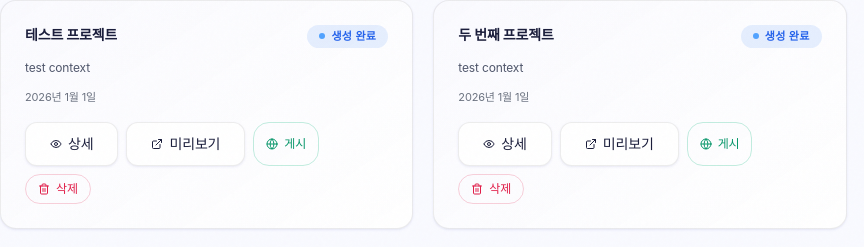
ProjectGrid › 삭제 성공 시 프로젝트가 목록에서 제거된다
Click delete on first project
Click the button "삭제" below "테스트 프로젝트" at (58, 189), box [25,174,91,204]
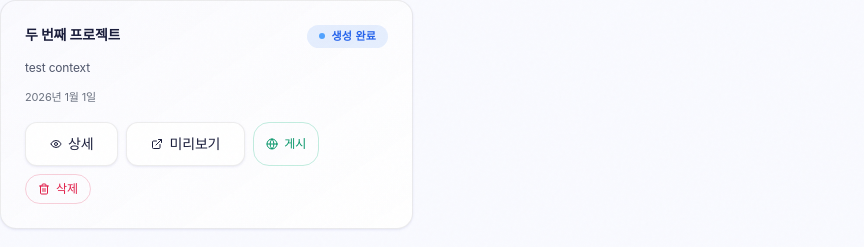
Expected: the heading "두 번째 프로젝트" is shown, [25,25,120,45]
Expected: the heading "테스트 프로젝트" is gone
